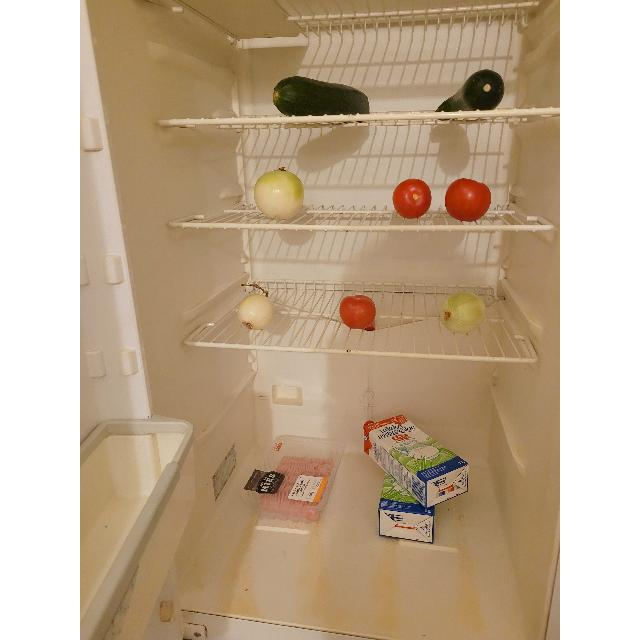meat: (259, 456, 335, 522)
milk: (372, 414, 468, 508), (377, 467, 431, 548)
onion: (253, 166, 305, 220), (440, 292, 486, 332), (237, 294, 276, 330)
tomato: (444, 178, 492, 222), (392, 179, 431, 221), (339, 293, 377, 331)
zucchini: (272, 76, 368, 118), (435, 68, 505, 120)
